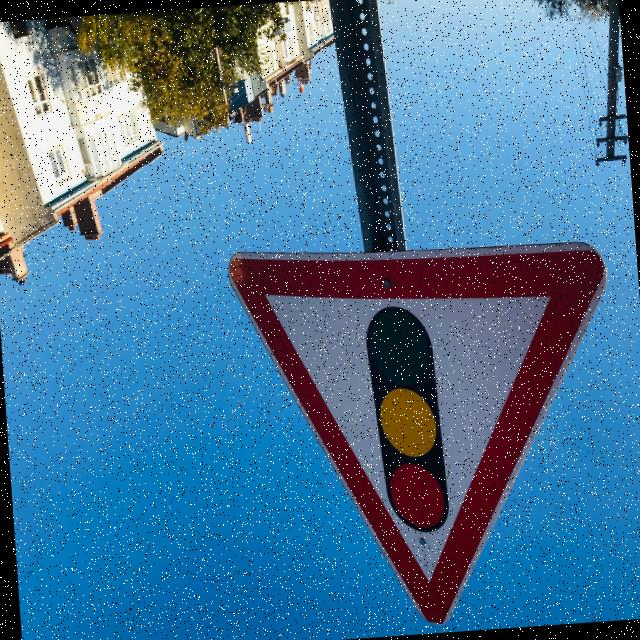light_traffic: (223, 219, 633, 640)
